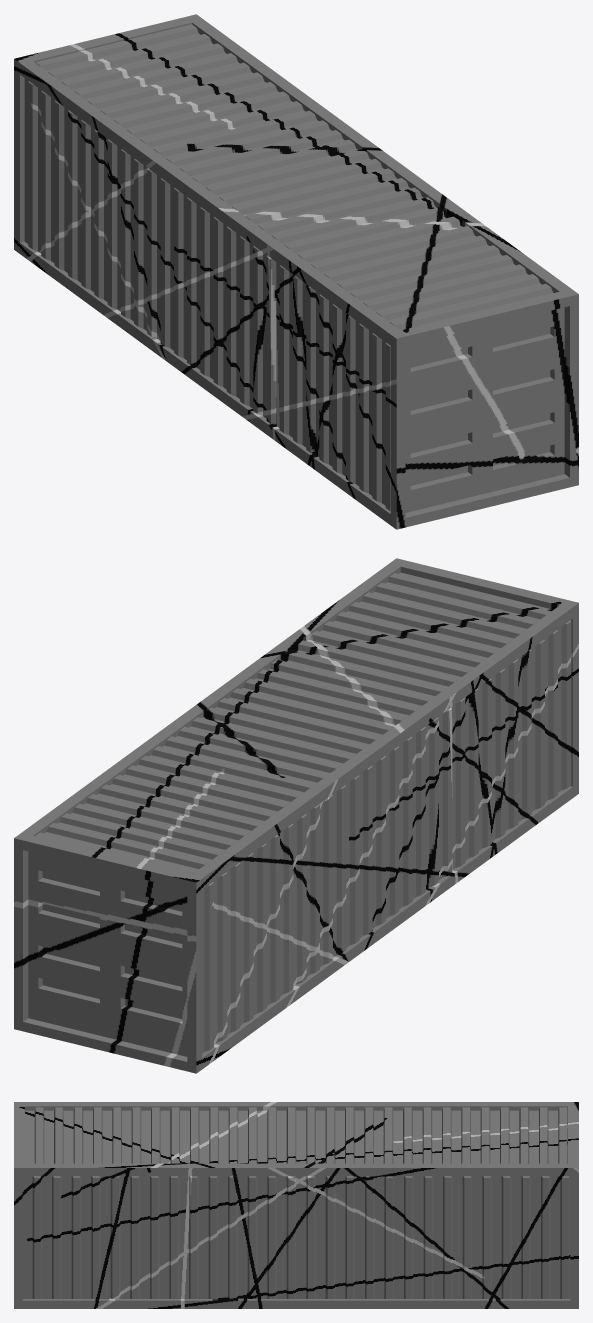
Rendered from container.fbx.
The picture shows the model from 3 angles, top to bottom: view 1: azimuth 30°, elevation 25°; view 2: azimuth 150°, elevation 25°; view 3: azimuth 270°, elevation 25°; orthographic projection. The views are drawn at different scales.
Visible parts, largest first — view 1: pCube27; view 2: pCube27; view 3: pCube27.
Boxes of the visible parts, bbox=[...] form: pCube27: bbox=[14, 14, 578, 529]; pCube27: bbox=[14, 558, 578, 1073]; pCube27: bbox=[14, 1102, 578, 1308].
Bounding box in the file's own units: 3.8 × 3.8 × 13.8.
Materials: 1 (1 with a texture image).
